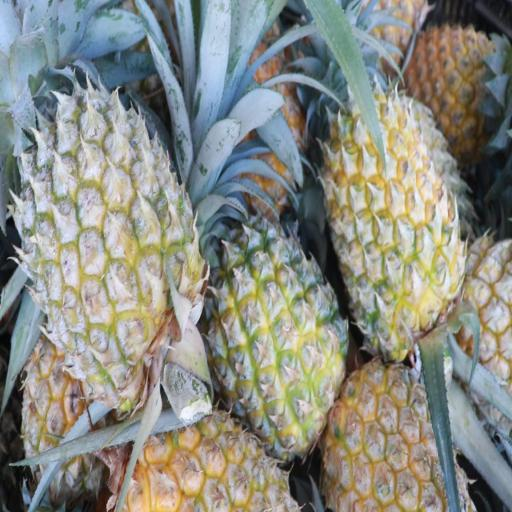------------------------------: (21, 104, 195, 383), (211, 224, 343, 456), (21, 344, 111, 503)
Pineapple - v8 v1: (327, 95, 461, 346), (331, 357, 462, 512), (406, 15, 510, 147)
